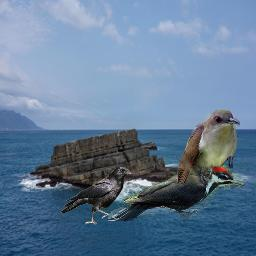Crow: (61, 166, 134, 225)
Cuckoo: (177, 110, 240, 183)
Woodpecker: (108, 164, 244, 221)
